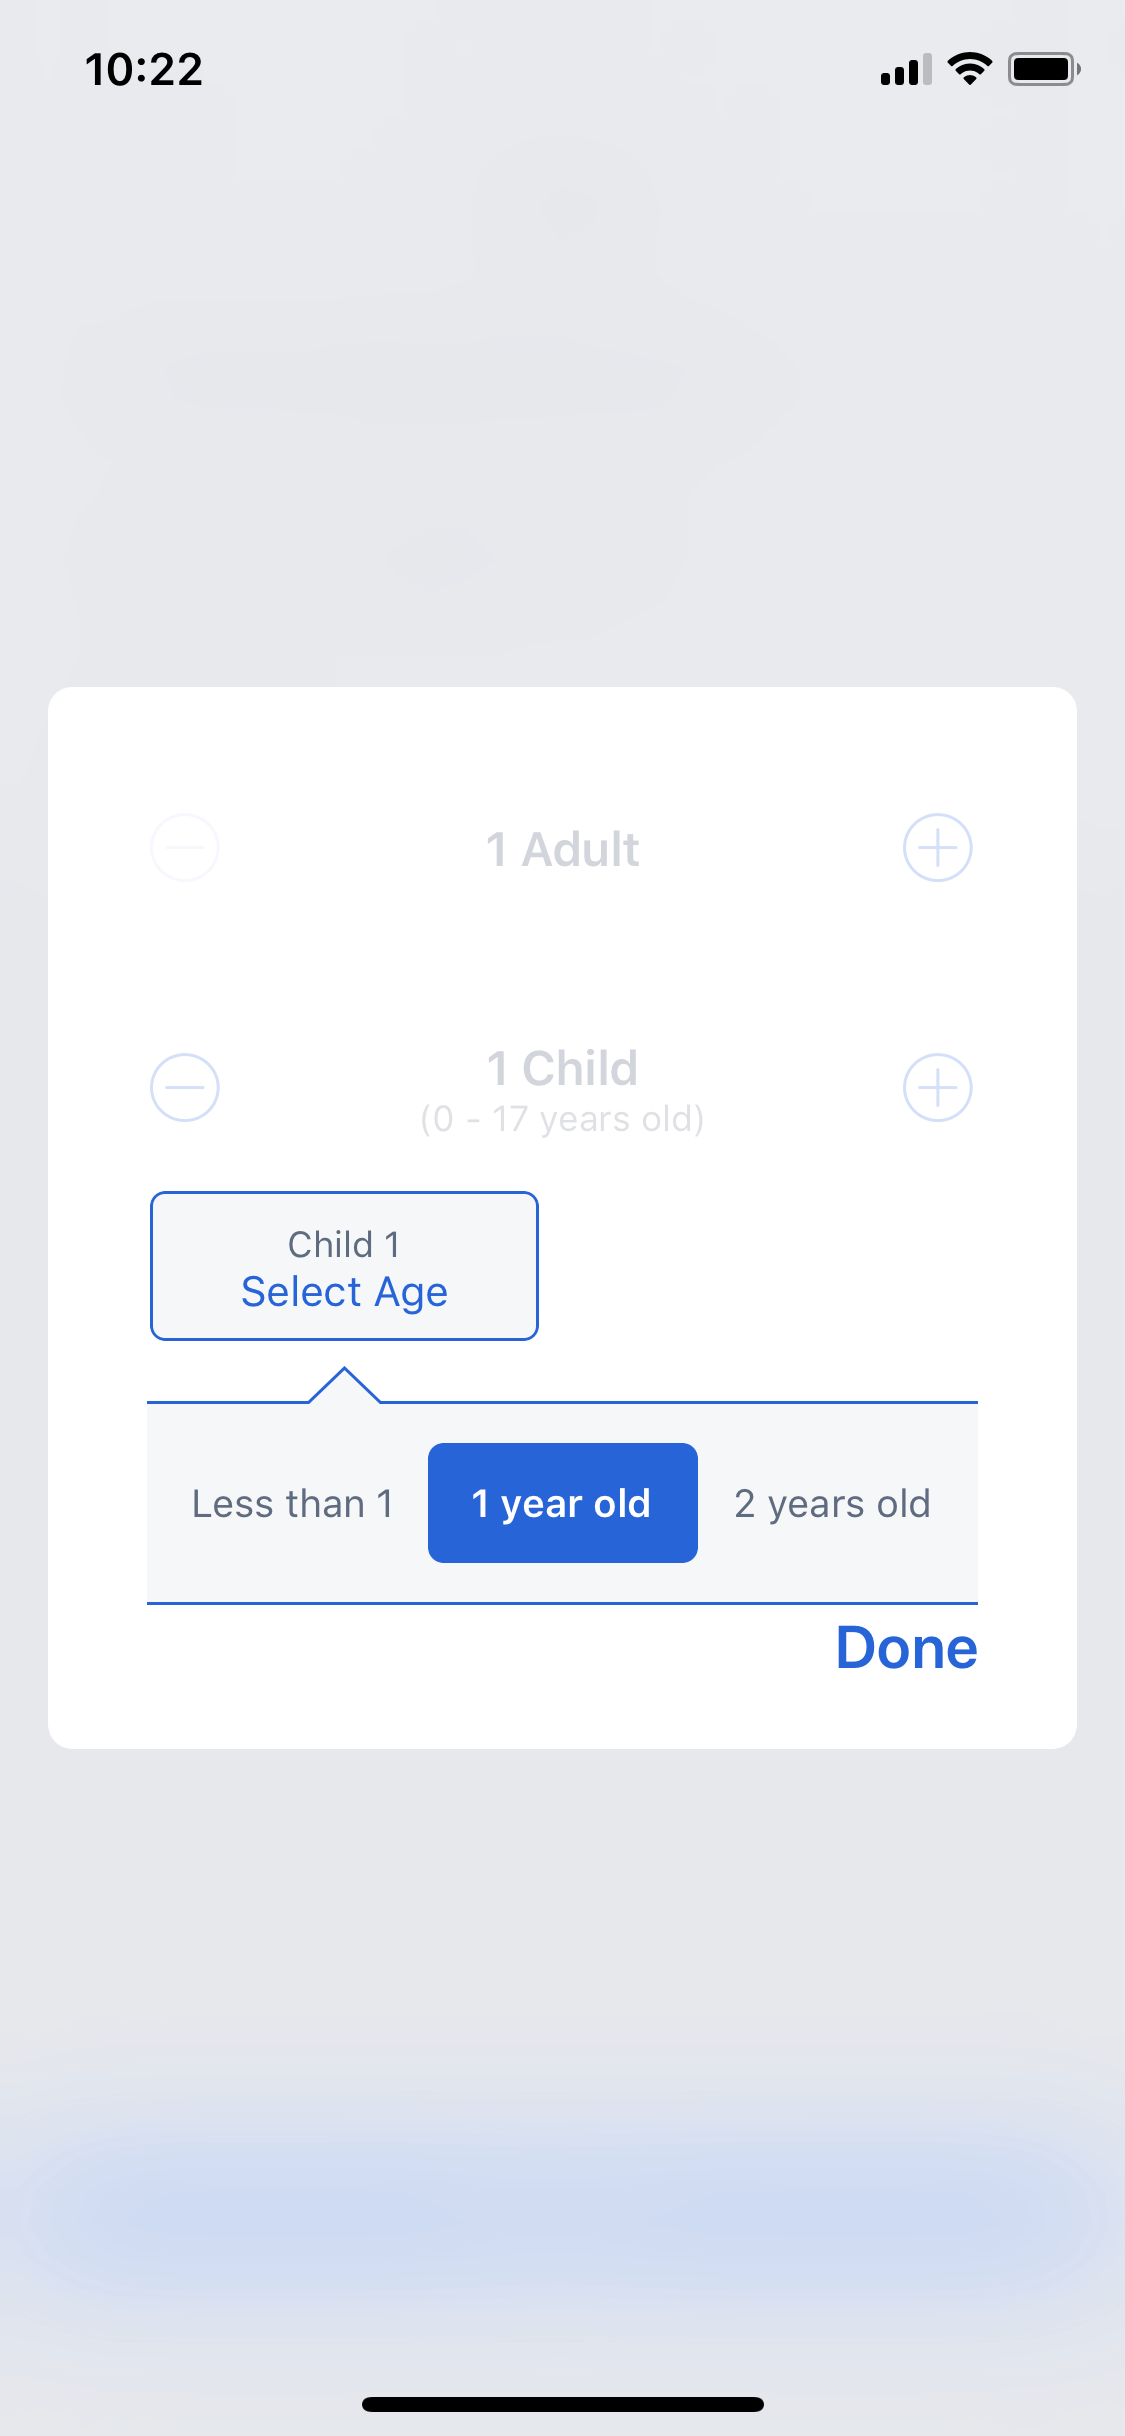Buttons: (406, 1431, 709, 1578), (816, 1603, 1001, 1695)
Steppers: (99, 747, 1024, 949), (96, 990, 1024, 1173)
